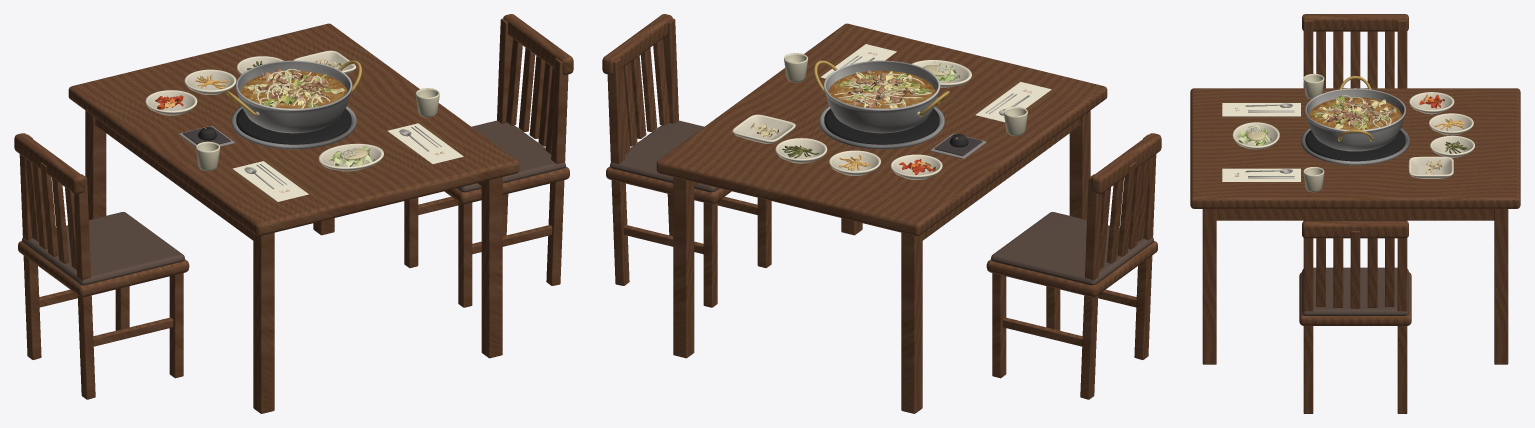
File: gallery.glb
3 views of the same model, side by side, from view 1: azimuth 30°, elevation 25°; view 2: azimuth 150°, elevation 25°; view 3: azimuth 270°, elevation 25° (orthographic). The views are drawn at different scales.
Visible parts, largest first — view 1: MilhwaWalnut, MilhwaGangnamGuksuJeongol, MilhwaTableMetal; view 2: MilhwaWalnut, MilhwaGangnamGuksuJeongol, MilhwaTableMetal; view 3: MilhwaWalnut, MilhwaGangnamGuksuJeongol, MilhwaTableMetal.
Boxes of the visible parts, box(x1,y1,x2,y2) form: MilhwaWalnut: box(14, 14, 573, 413); MilhwaGangnamGuksuJeongol: box(22, 50, 565, 285); MilhwaTableMetal: box(178, 60, 441, 189); MilhwaWalnut: box(602, 14, 1161, 413); MilhwaGangnamGuksuJeongol: box(610, 44, 1153, 285); MilhwaTableMetal: box(814, 55, 1029, 159); MilhwaWalnut: box(1190, 14, 1520, 413); MilhwaGangnamGuksuJeongol: box(1222, 73, 1474, 315); MilhwaTableMetal: box(1245, 76, 1409, 178).
Bounding box in the file's own units: 2.06 × 0.9522 × 1.35.
Materials: 3 (1 with a texture image).
